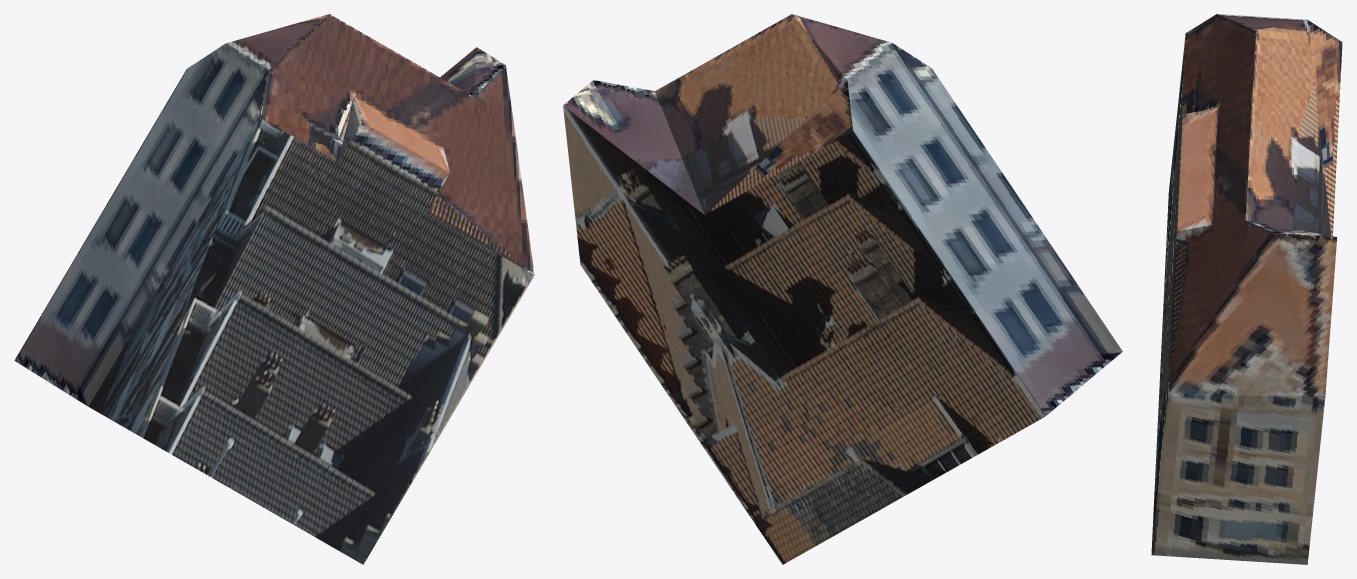
3 views of the same model, side by side, from view 1: azimuth 30°, elevation 25°; view 2: azimuth 150°, elevation 25°; view 3: azimuth 270°, elevation 25° (orthographic). The views are drawn at different scales.
Visible parts, largest first — view 1: BAG_0599100000671599 (×5); view 2: BAG_0599100000671599 (×4); view 3: BAG_0599100000671599 (×5).
Boxes of the visible parts, <box> form: BAG_0599100000671599 (×5): <box>14,14,534,564</box>; BAG_0599100000671599 (×4): <box>563,14,1122,564</box>; BAG_0599100000671599 (×5): <box>1151,14,1342,564</box>.
Size of the model in its own units: 22.16 by 23.44 by 7.49.
Materials: 5 (5 with a texture image).
